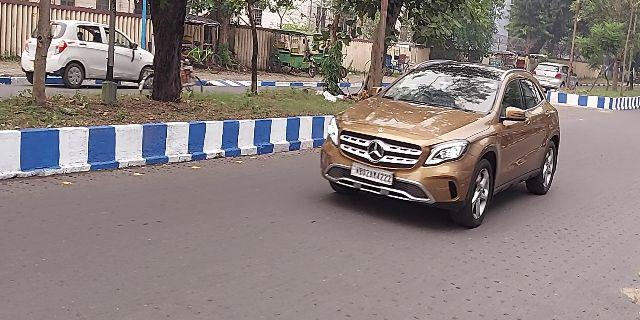Car: (319, 60, 564, 218)
